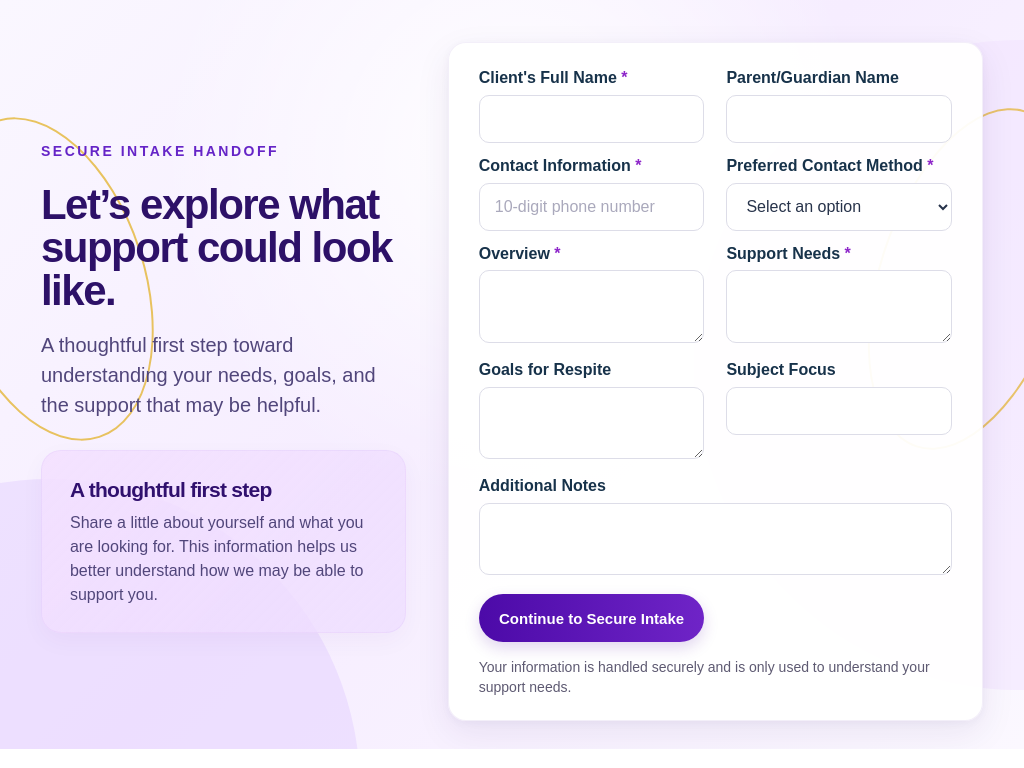
Test: Intake page › sends form with Bearer token and clears form on success
The width and height of the screenshot is (1024, 768).
Type "Sam Lee" into the field labelled "Client's Full Name *" at (592, 119), box [479,95,704,143]
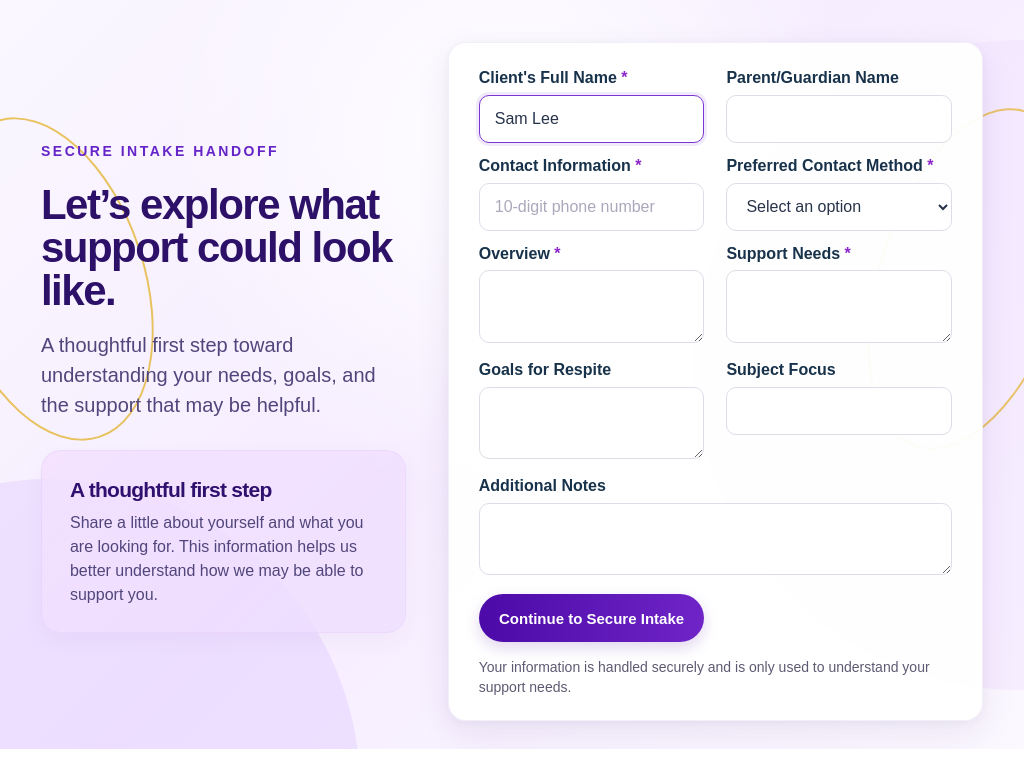
Select "Email" in the dropdown labelled "Preferred Contact Method *" at (839, 207), box [726,183,952,231]
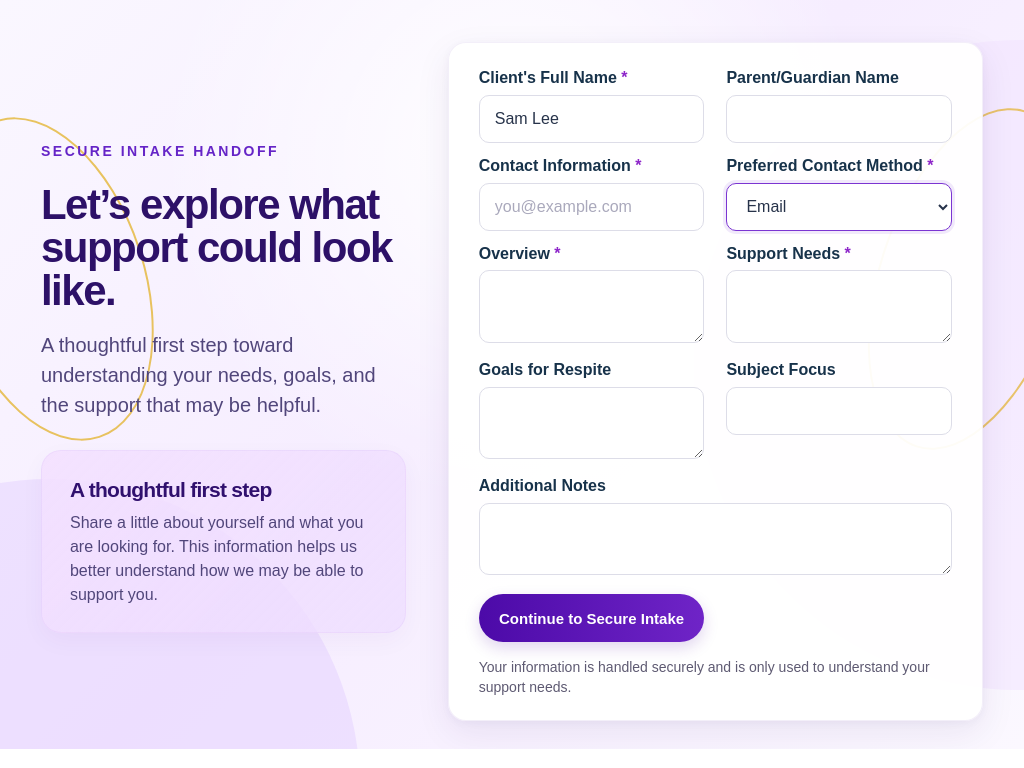
Type "alex@mail.com" into the field labelled "Contact Information *" at (592, 207), box [479,183,704,231]
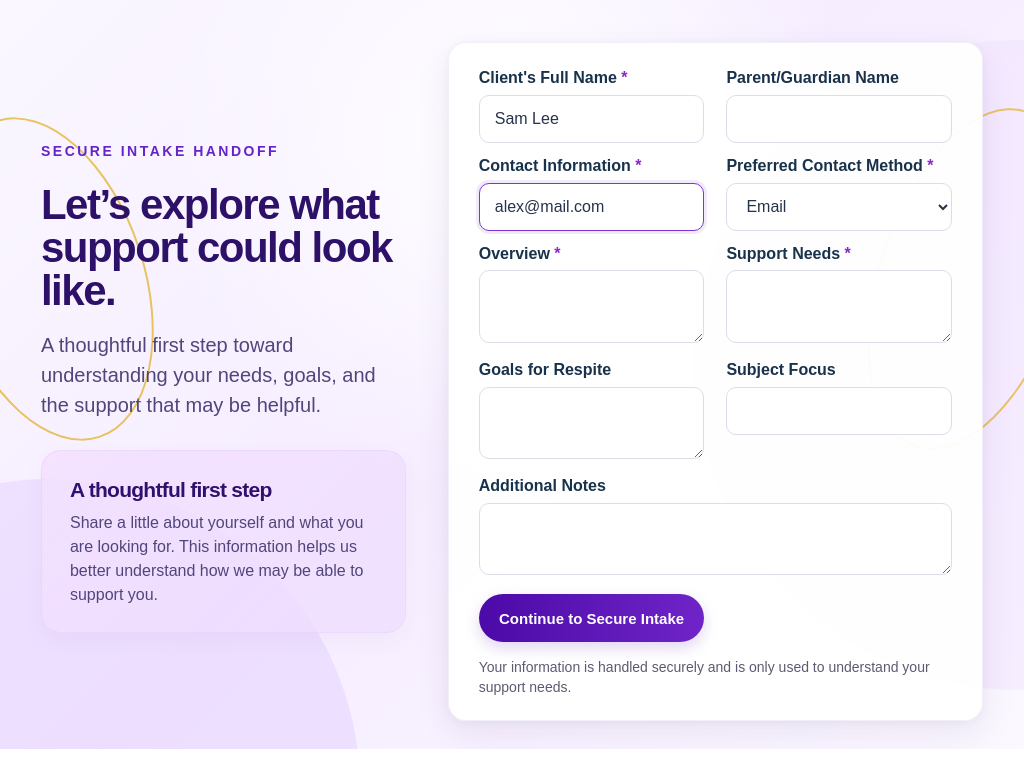
Type "Some overview" into the text box labelled "Overview *" at (592, 307), box [479,270,704,343]
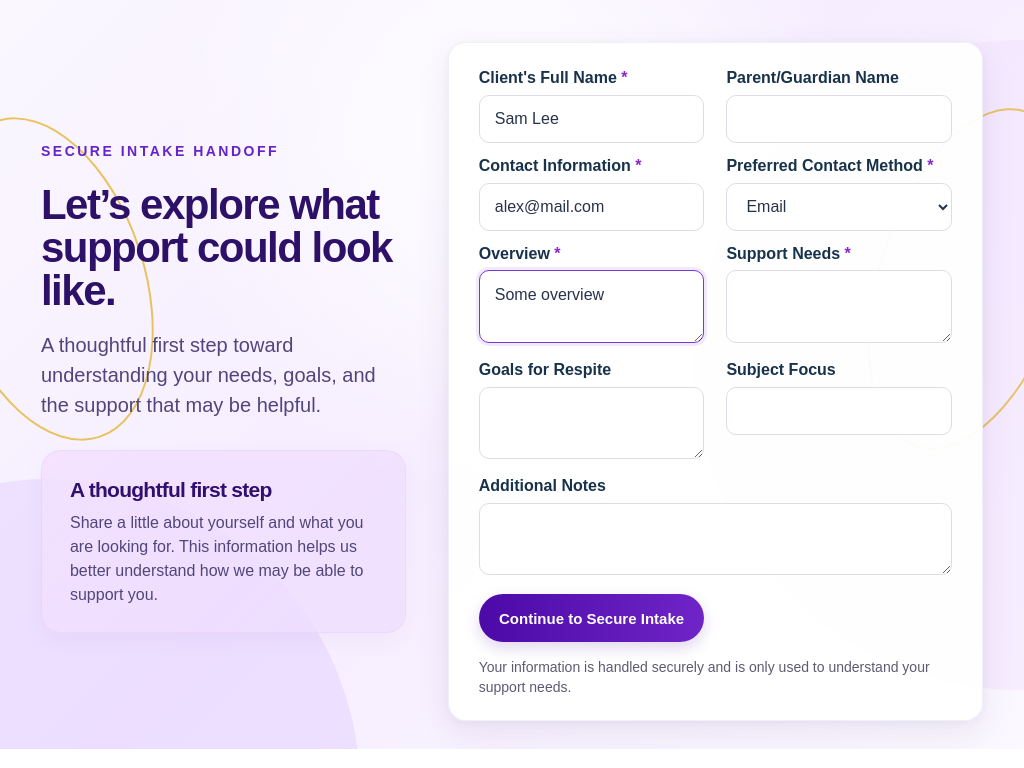
Type "Some needs" into the text box labelled "Support Needs *" at (839, 307), box [726,270,952,343]
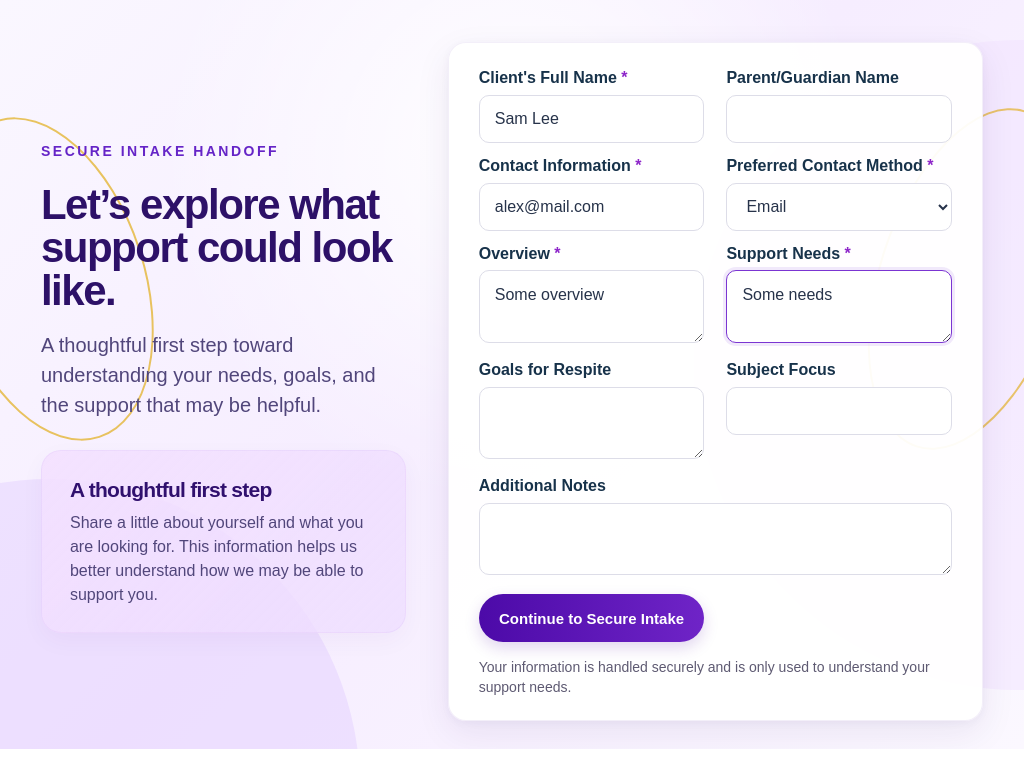
Click the button "Continue to Secure Intake" at (592, 618), box [479,594,704,642]
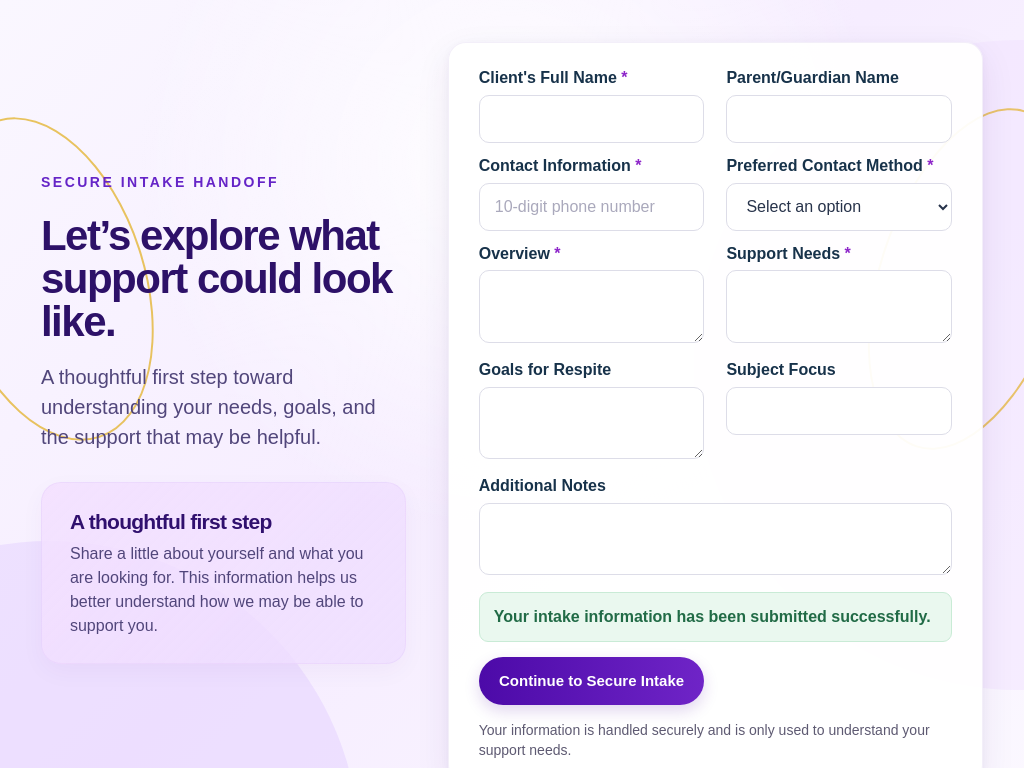
Now the text "Your intake information has been submitted successfully." is shown, box [494,608,930,625]
Now the field labelled "Client's Full Name *" is empty, box [479,95,704,143]
